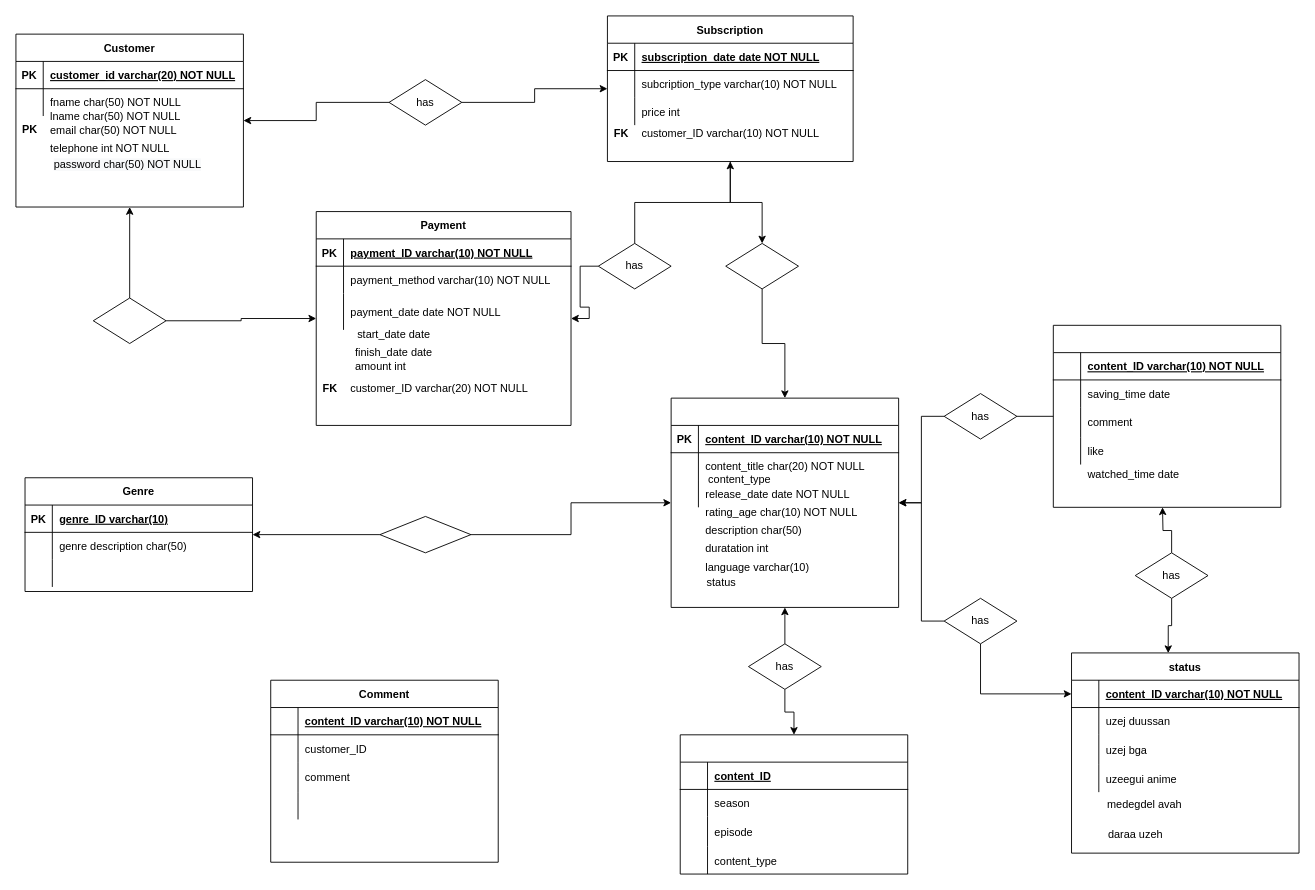
The diagram is 1315 pixels wide and 890 high, and some of its shapes have lost their labels. The shapes that lost their labels are listed below. From the top down, each one's box as (x1, y1, x2, y2) in pixels, then its label:
(725, 243, 799, 289): for
(92, 297, 166, 344): make
(1052, 324, 1281, 507): View
(670, 397, 899, 607): Anime and movies
(379, 516, 471, 553): belongs to
(679, 734, 908, 874): Part
